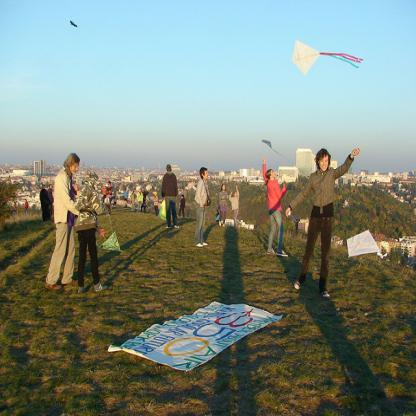handbag: (202, 179, 211, 207)
